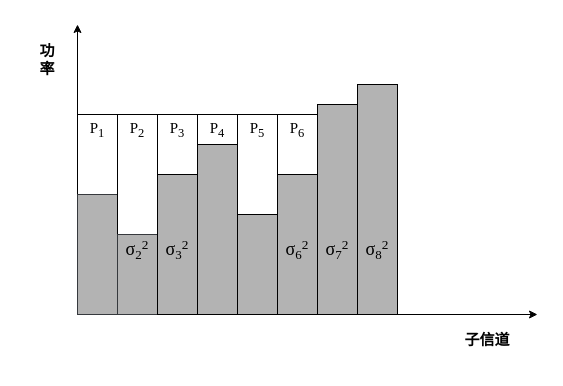
Image size: 563x386. Some labels were removed from this diagram. Here are the shapes that lost their labels. From the top down, the centre of each, then its label:
At point 217,229: "σ 4 2".
At point 97,254: "σ 1 2".
At point 257,264: "σ 5 2".
